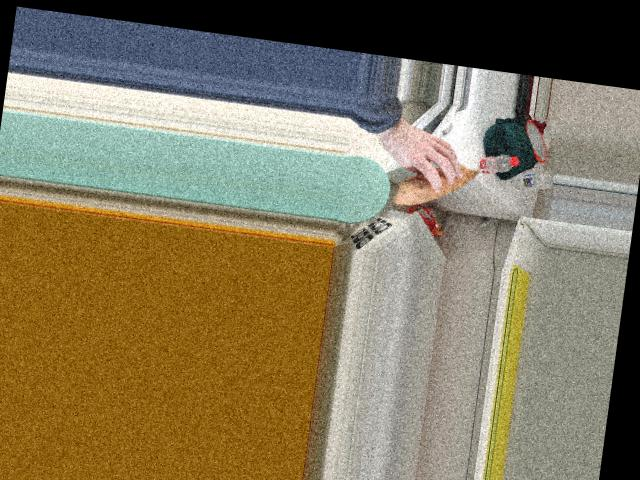sweet_potato: (406, 146, 476, 212)
